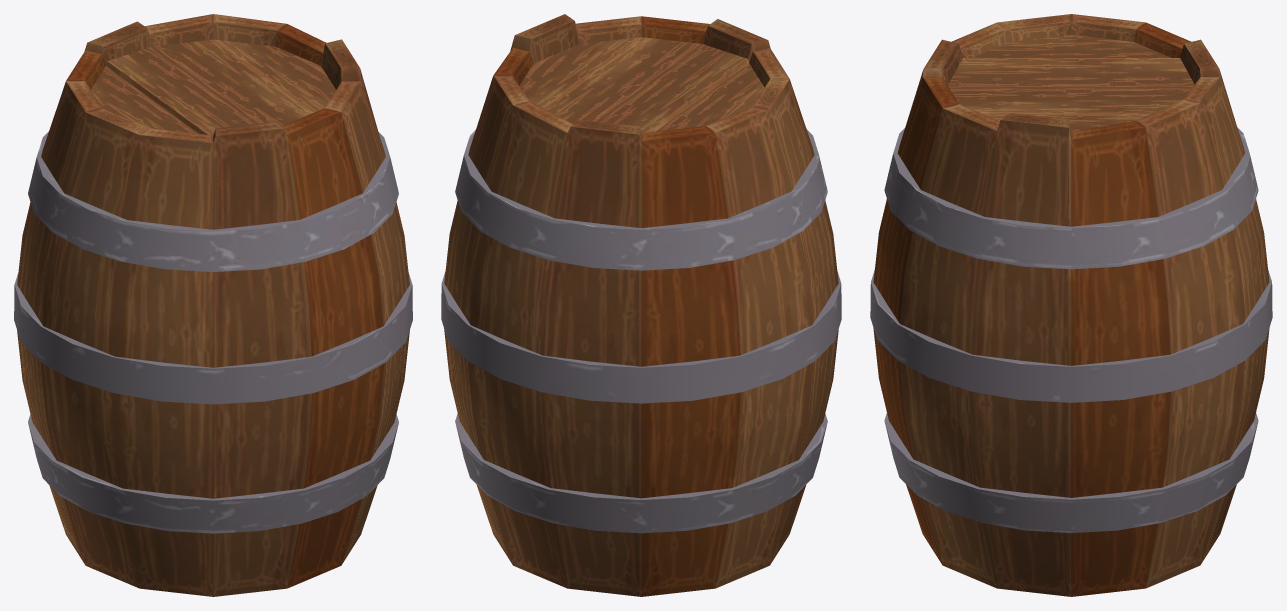
The model's file is barrel.glb.
3 views of the same model, side by side, from view 1: azimuth 30°, elevation 25°; view 2: azimuth 150°, elevation 25°; view 3: azimuth 270°, elevation 25° (orthographic).
Visible parts, largest first — view 1: Barrel; view 2: Barrel; view 3: Barrel.
Boxes of the visible parts, bbox=[...] form: Barrel: bbox=[14, 14, 412, 596]; Barrel: bbox=[441, 14, 841, 596]; Barrel: bbox=[870, 14, 1272, 596].
Size of the model in its own units: 0.698 by 0.898 by 0.698.
2 materials, 2 textured.
